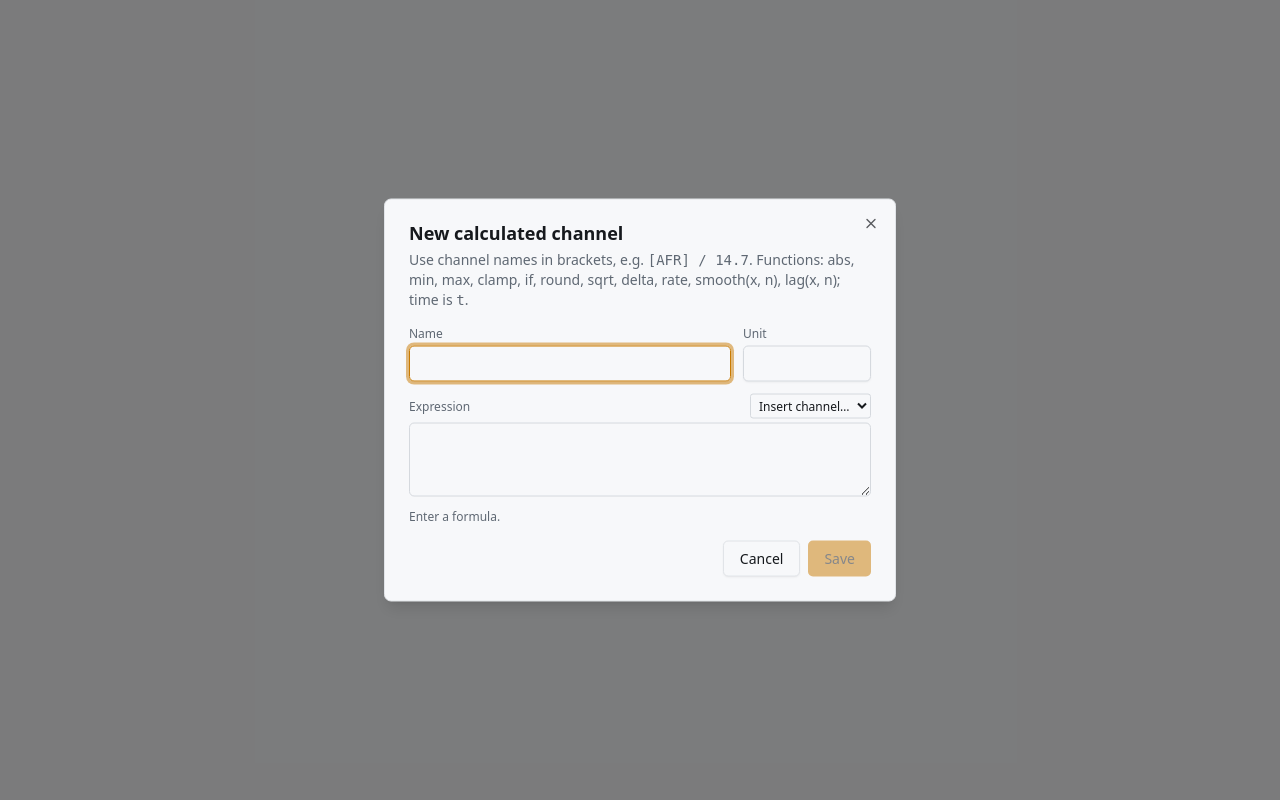
an invalid expression shows where the problem is and blocks saving
Type "Bad" into the field labelled "Name".
click(570, 364); type("Bad")  # box [409,346,731,382]
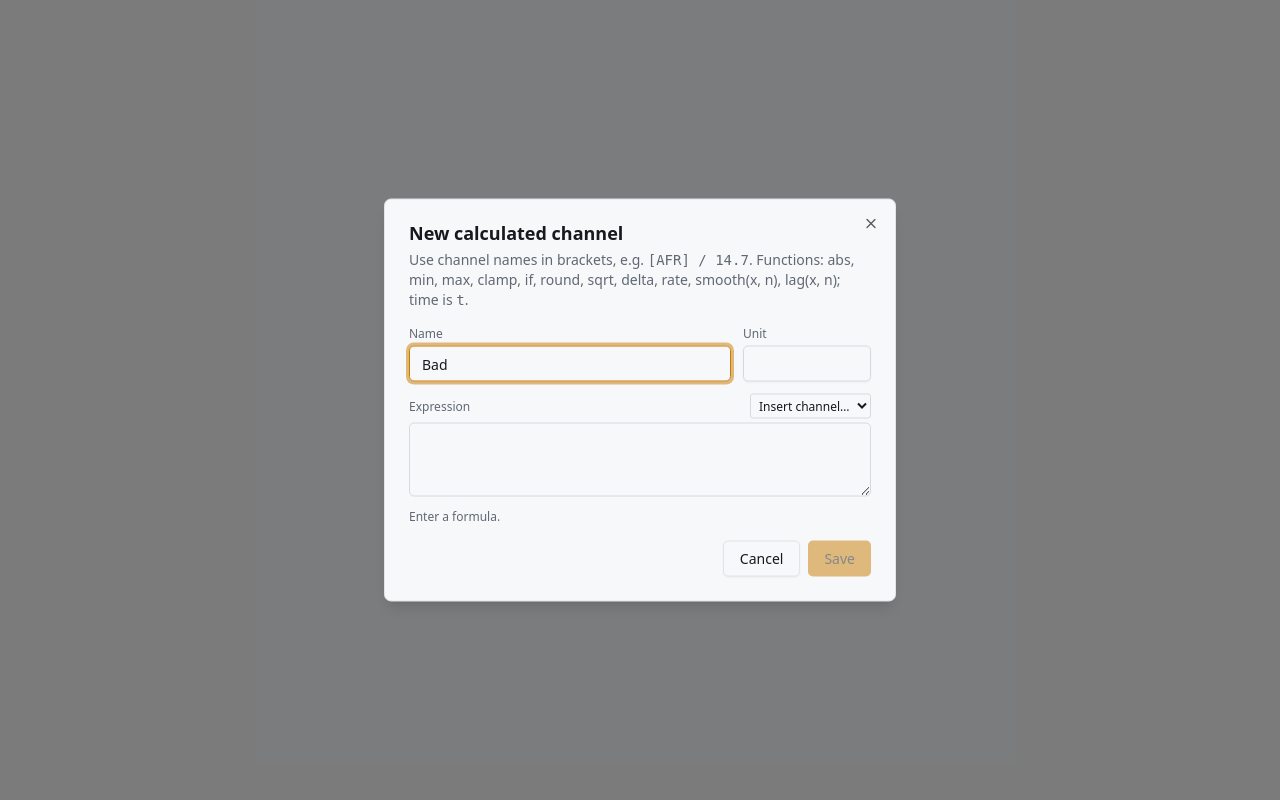
Type "[AFR] /" into the text box named "Expression".
click(640, 460); type("[AFR] /")  # box [409,422,871,496]
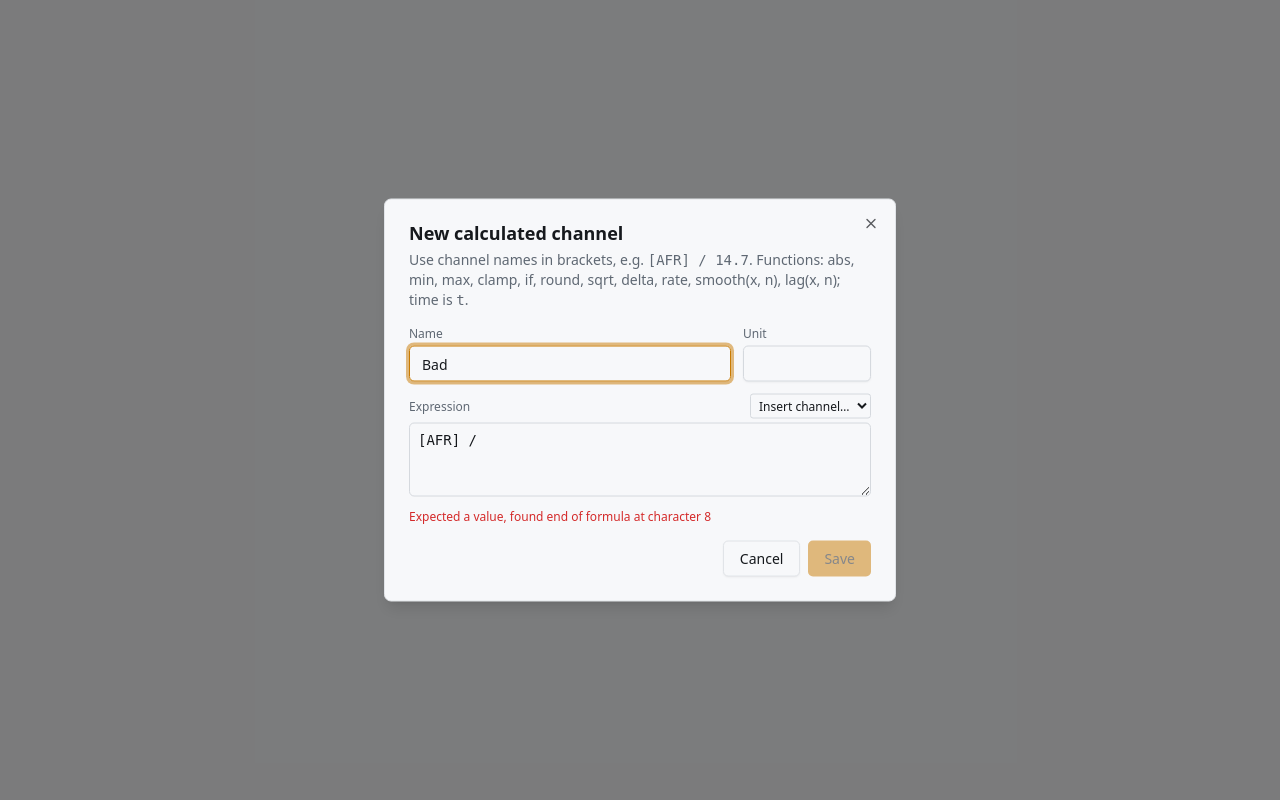
Expected: the button "Save" is disabled, [808,540,871,576]
Now the text "Expected a value, found end of formula at character 8" is shown, box [409,508,711,524]
